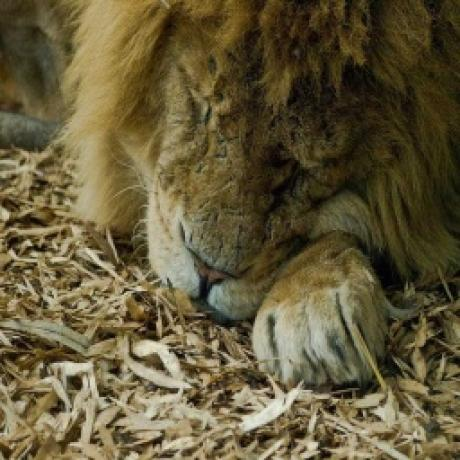Lion: (62, 0, 460, 392)
